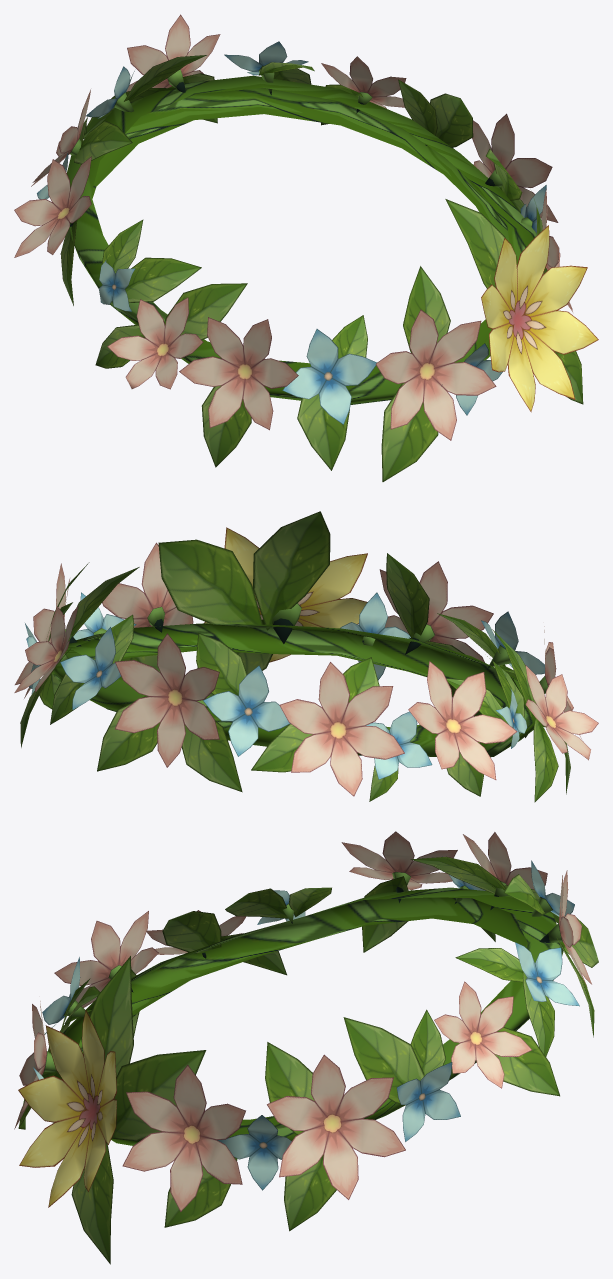
The picture shows the model from 3 angles, top to bottom: view 1: azimuth 30°, elevation 25°; view 2: azimuth 150°, elevation 25°; view 3: azimuth 270°, elevation 25°; orthographic projection. The views are drawn at different scales.
Visible parts, largest first — view 1: AvatarItem_PlayerGirl_AranaraFlowerCrown_AvatarItem_PlayerGi; view 2: AvatarItem_PlayerGirl_AranaraFlowerCrown_AvatarItem_PlayerGi; view 3: AvatarItem_PlayerGirl_AranaraFlowerCrown_AvatarItem_PlayerGi.
Boxes of the visible parts, x1,y1,x2,y2 form: AvatarItem_PlayerGirl_AranaraFlowerCrown_AvatarItem_PlayerGi: (14, 14, 598, 481); AvatarItem_PlayerGirl_AranaraFlowerCrown_AvatarItem_PlayerGi: (14, 511, 598, 802); AvatarItem_PlayerGirl_AranaraFlowerCrown_AvatarItem_PlayerGi: (14, 831, 598, 1264).
Size of the model in its own units: 0.24 by 0.133 by 0.2389.
1 material, 1 textured.
